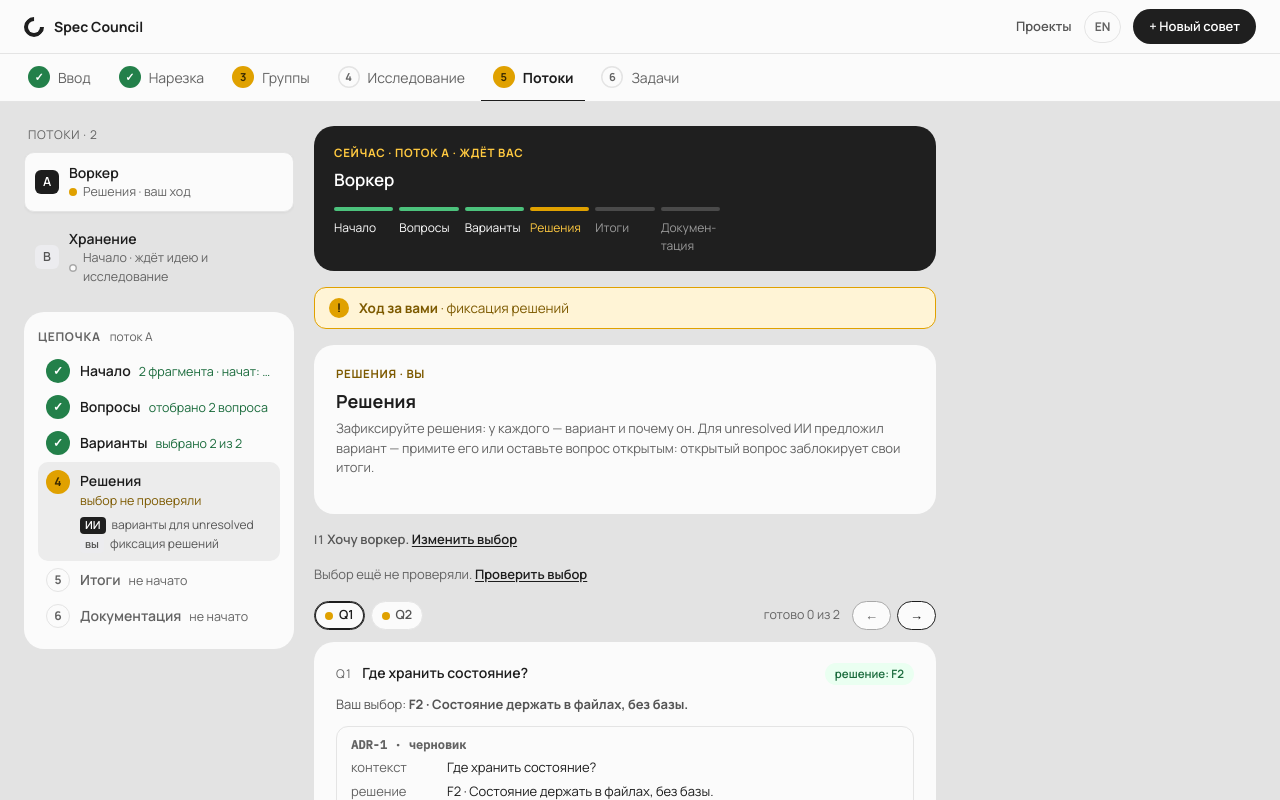
Поток: начало и вопросы › утверждённый свой вариант виден с номером, пока его текст не поправили
The image size is (1280, 800).
Click the button "Изменить выбор": (464, 540) [412,530,517,549]
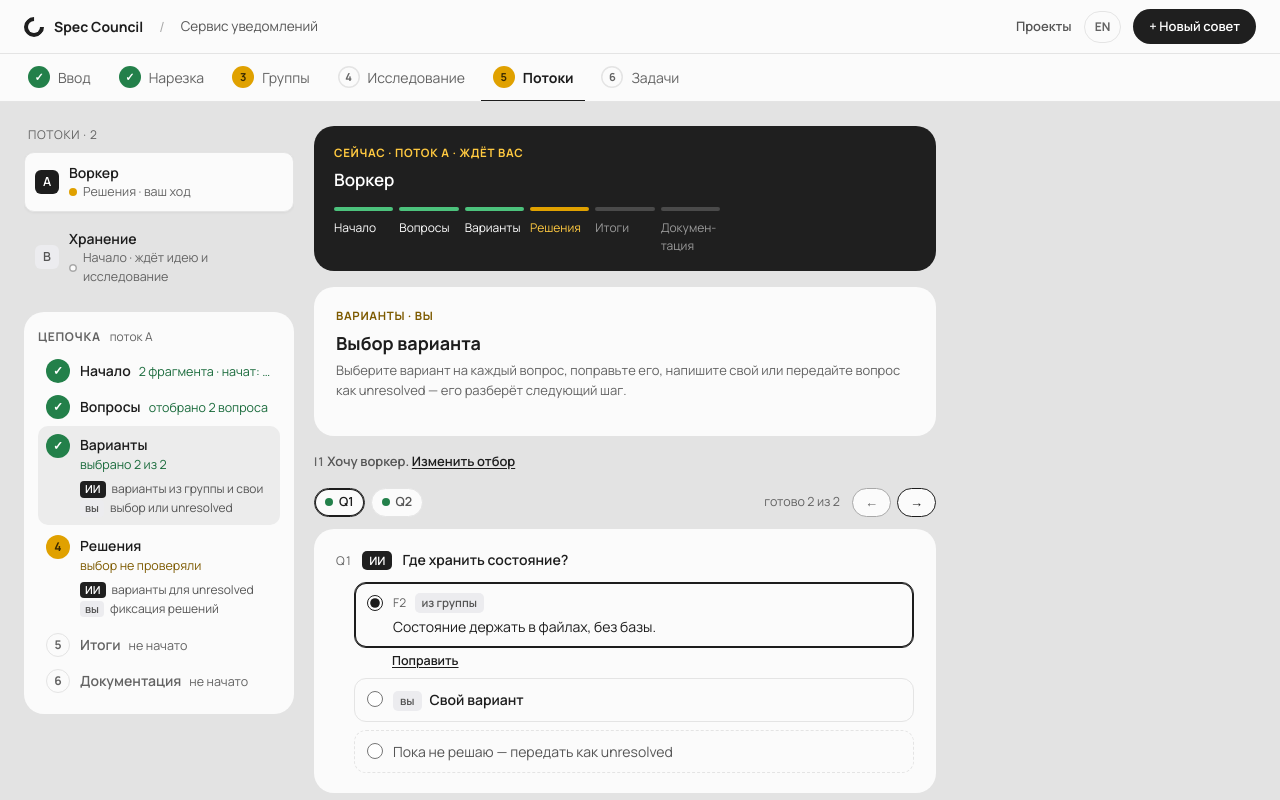
Click the tab "Q2": (397, 502) [370,488,423,517]
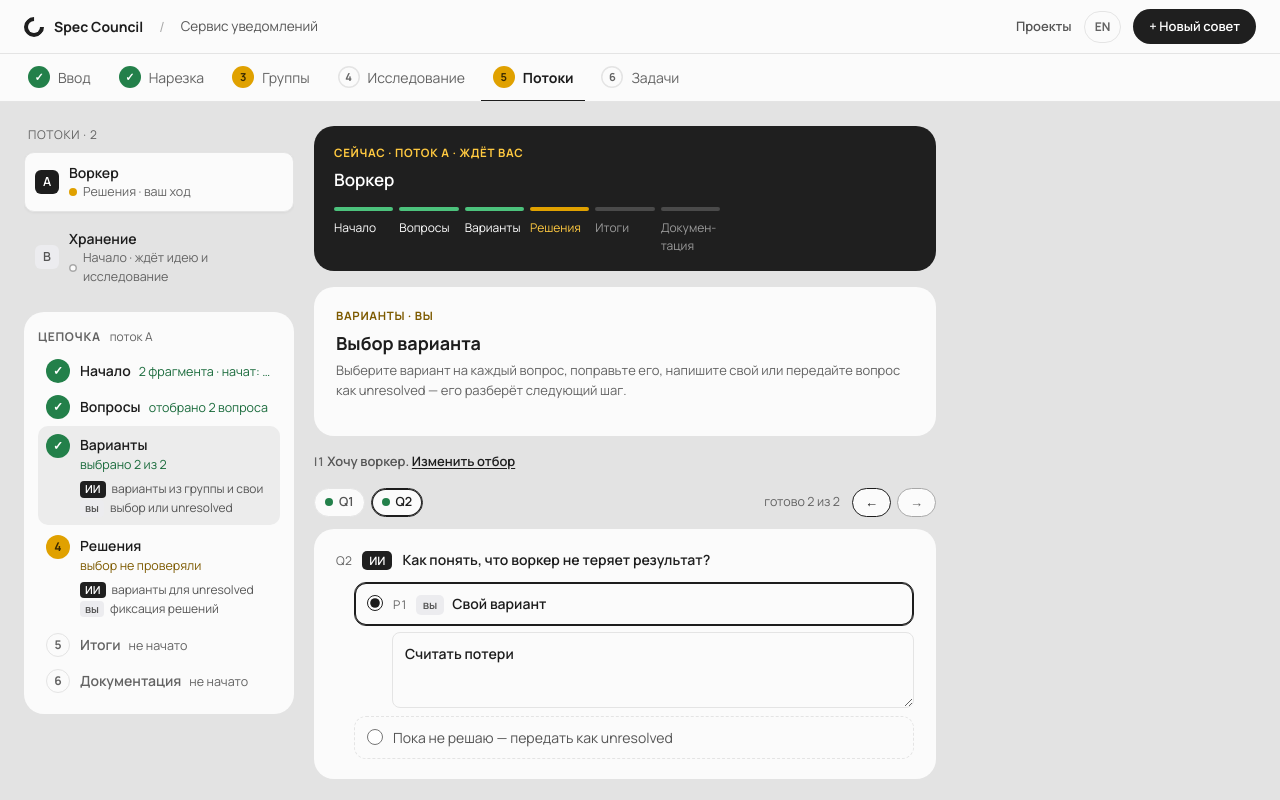
expect the radio button labelled "P1 вы Свой вариант" is checked: met, box [367,595,383,611]
expect the text "P1" is shown: met, box [393,595,408,614]
expect the text box named "Свой вариант к Q2" holds "Считать потери": met
Replace the text in the text box named "Свой вариант к Q2" with "Считать потери по дням": (653, 670) [392,632,914,708]
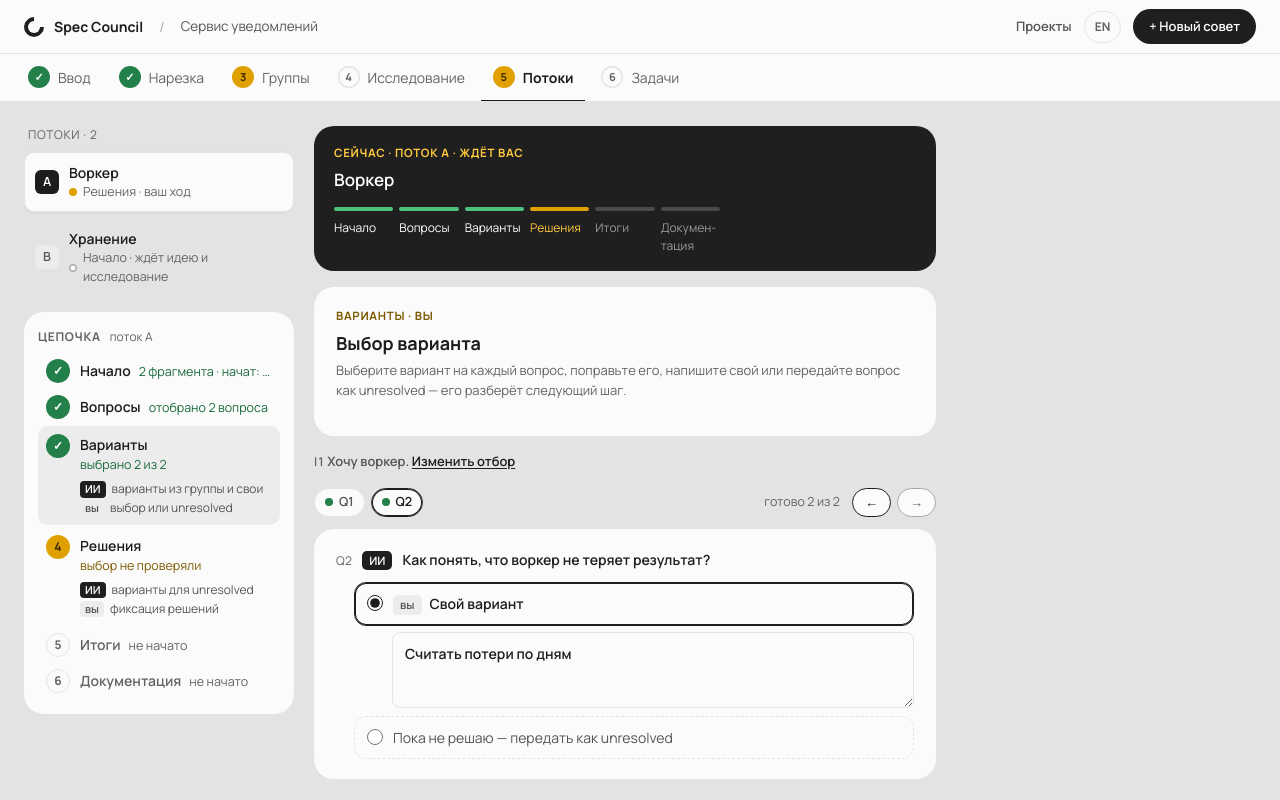
expect the text "P1" is gone: met
